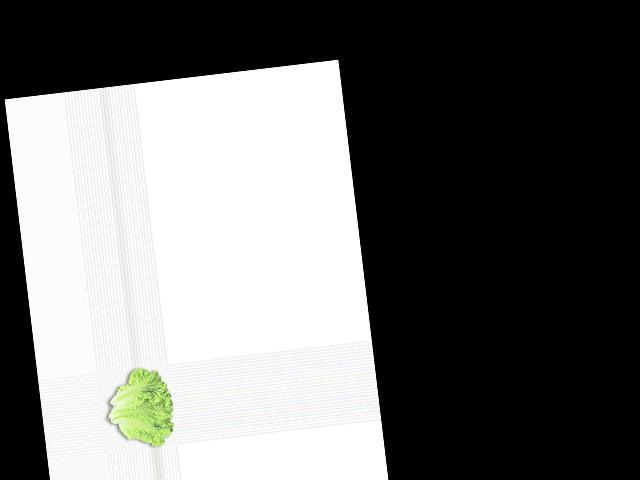lettuce: (101, 363, 176, 450)
